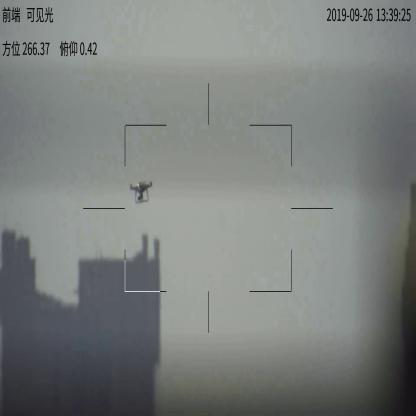uav: (130, 180, 153, 204)
